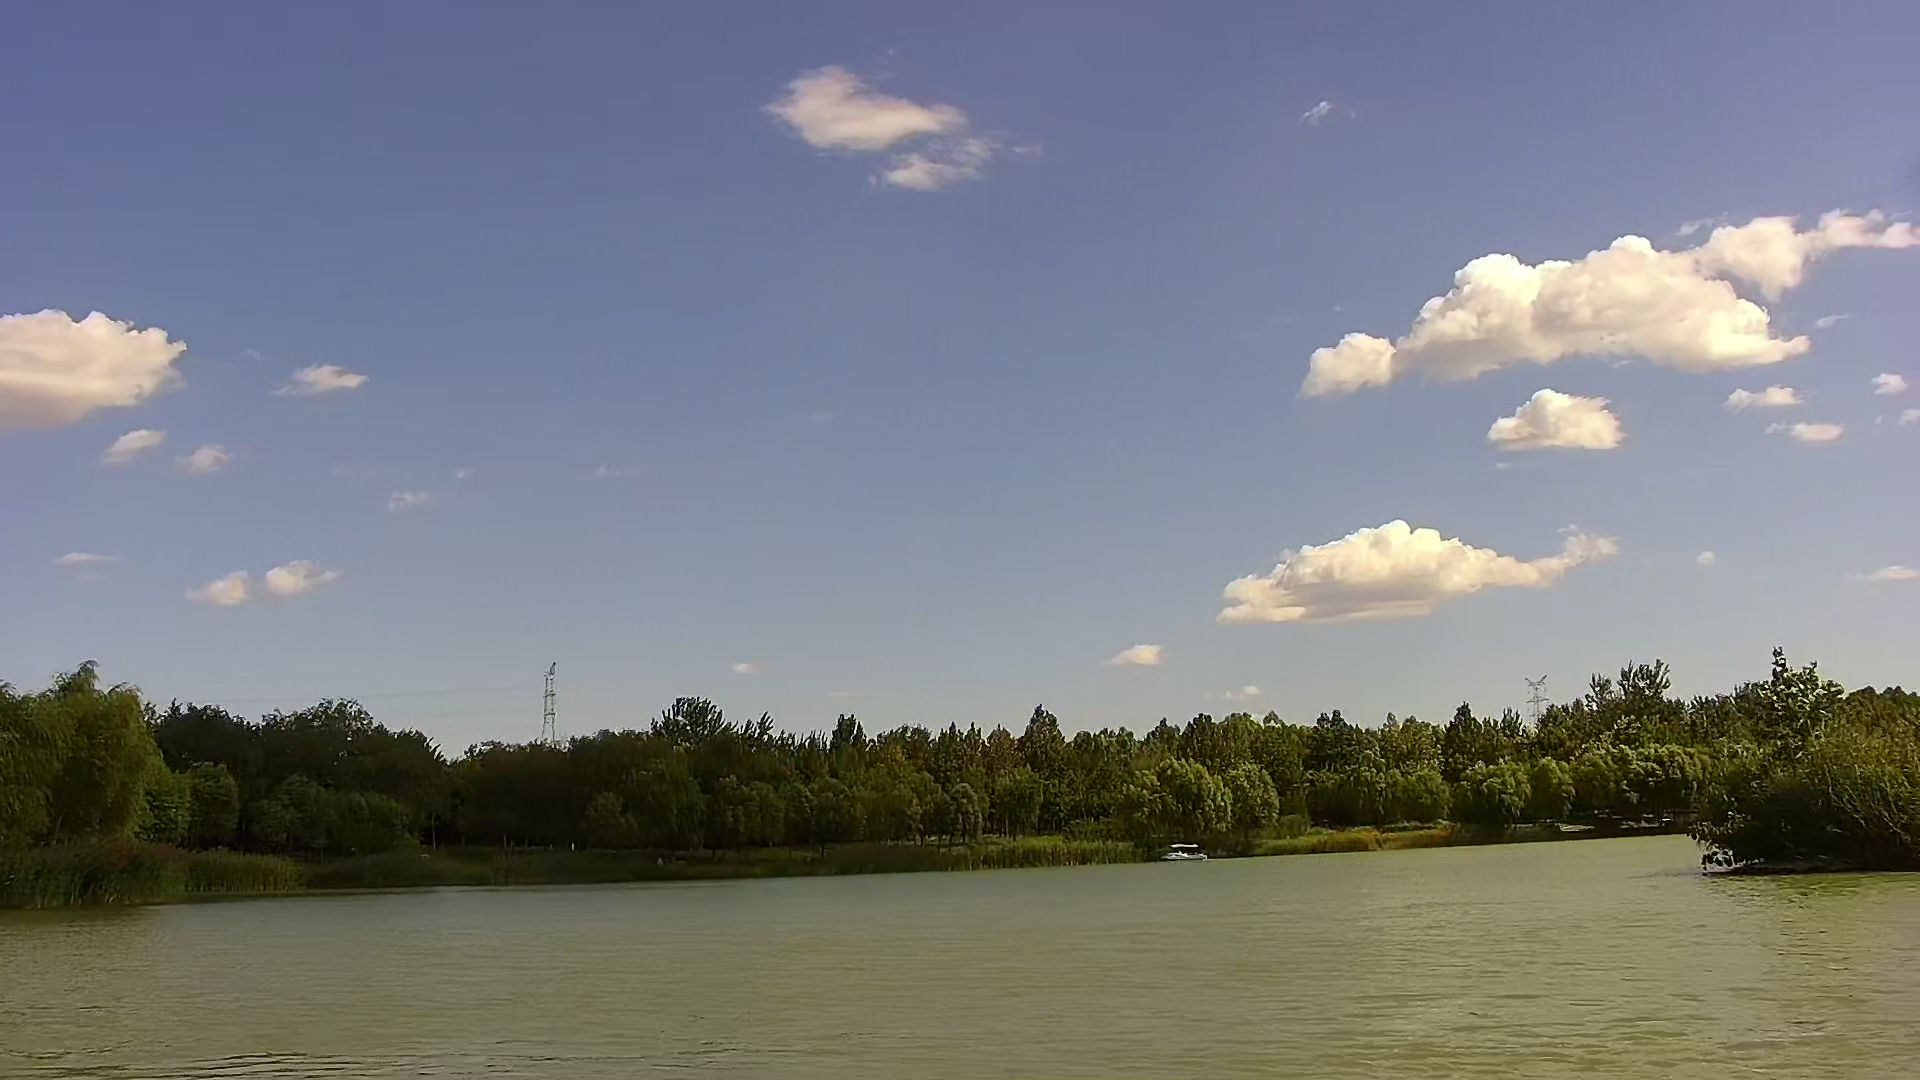boat: (1160, 841, 1211, 861)
